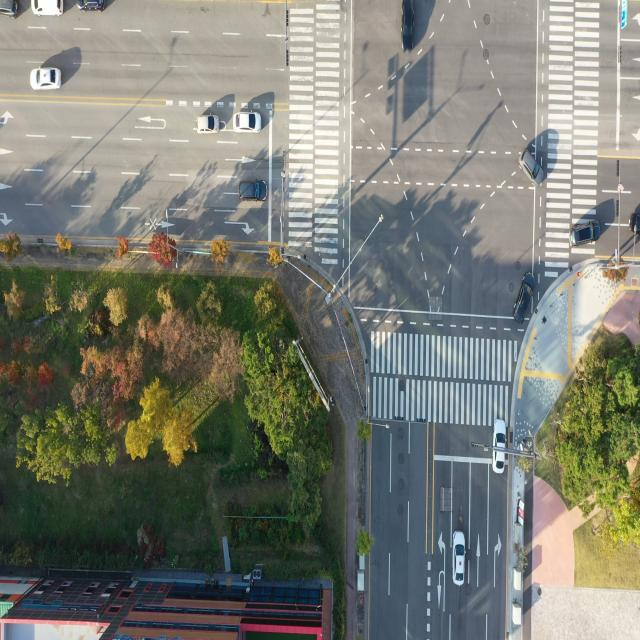car: (570, 216, 603, 252), (515, 271, 536, 324), (520, 149, 547, 187), (492, 415, 508, 474), (452, 529, 467, 587), (28, 66, 58, 93), (400, 0, 415, 52), (238, 180, 267, 202), (234, 111, 262, 132), (30, 0, 64, 17), (197, 113, 220, 133), (77, 0, 109, 14), (0, 0, 21, 18), (629, 212, 640, 236)
